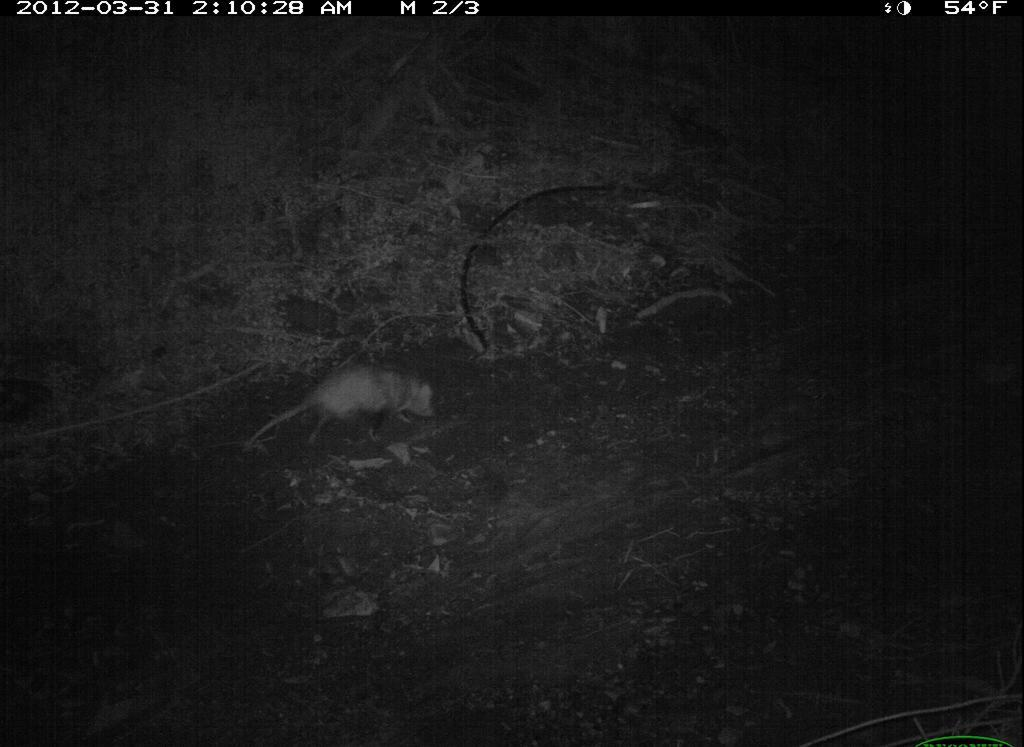opossum: (242, 359, 442, 454)
